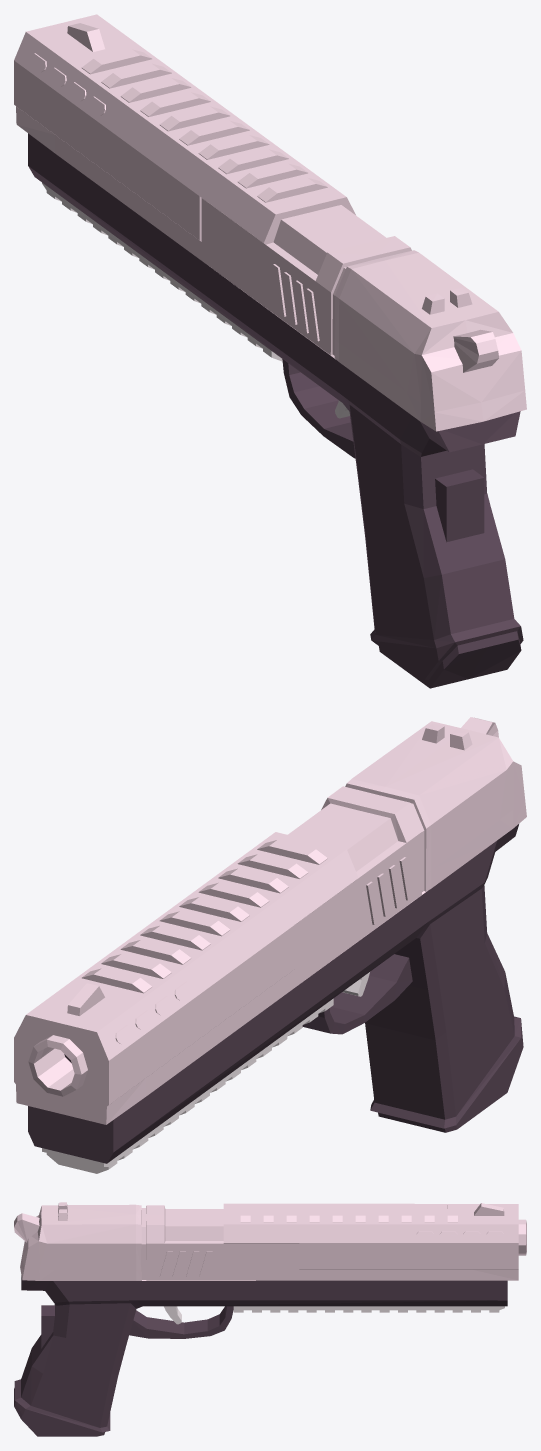
File: Pistol_6.obj
3 views of the same model, one above another, from view 1: azimuth 30°, elevation 25°; view 2: azimuth 150°, elevation 25°; view 3: azimuth 270°, elevation 25° (orthographic). The views are drawn at different scales.
Visible parts, largest first — view 1: Slide, Hardware, Mag, Body; view 2: Slide, Hardware, Mag, Body; view 3: Slide, Hardware, Mag, Body.
Part boxes in pixels (x1,y1,x2,y2): Slide: (14,14,526,431); Hardware: (28,133,523,664); Mag: (370,469,521,688); Body: (42,182,349,418); Slide: (14,717,526,1124); Hardware: (28,824,523,1163); Mag: (370,1051,521,1132); Body: (42,972,369,1173); Slide: (14,1202,526,1280); Hardware: (14,1275,507,1417); Mag: (19,1305,110,1436); Body: (164,1306,504,1324).
Size of the model in its own units: 0.4038 by 1.52 by 3.2.
